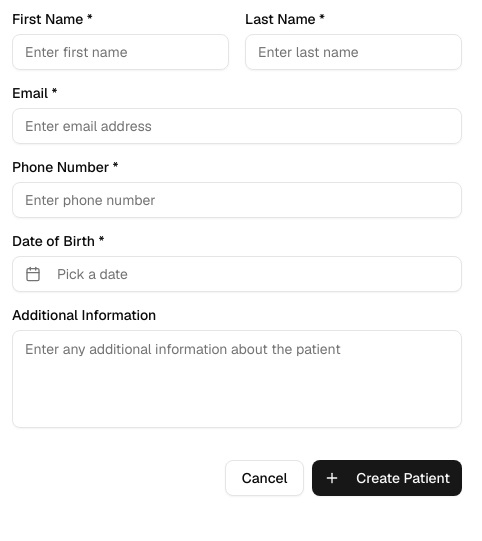
Scenario: CreatePatientForm › Phone Number Validation › validates phone number format - too short
Step 1. Type "123" into the field labelled "Phone Number *" → coordinates (237, 200), box [12,182,462,218]
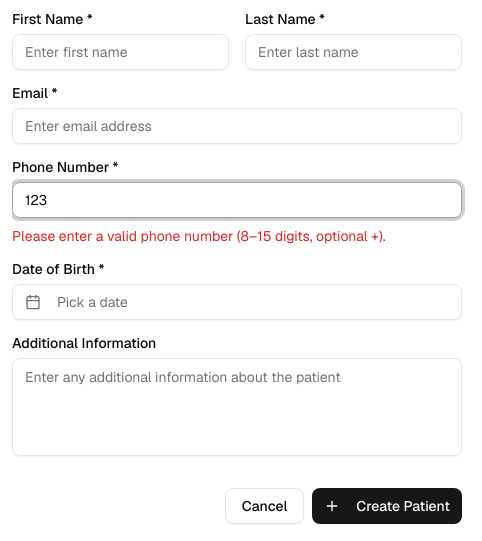
expect the text "Please enter a valid phone number (8–15 digits, optional +)." is shown: met, box [12,227,386,245]
